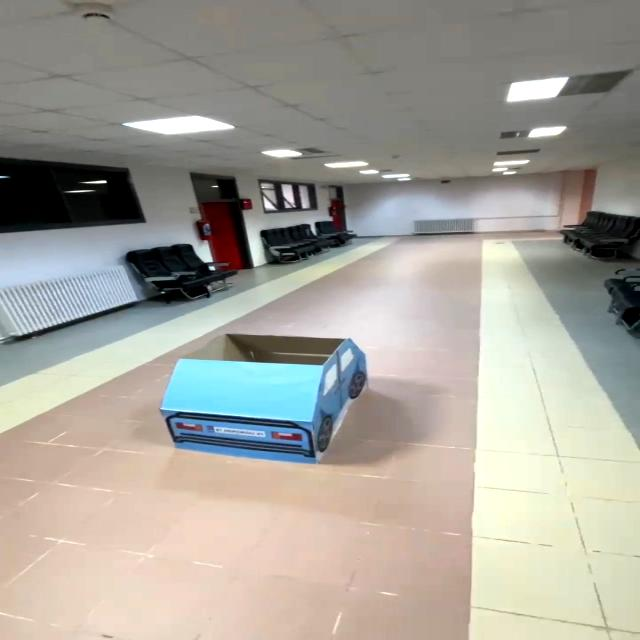blue_car: (135, 322, 398, 478)
